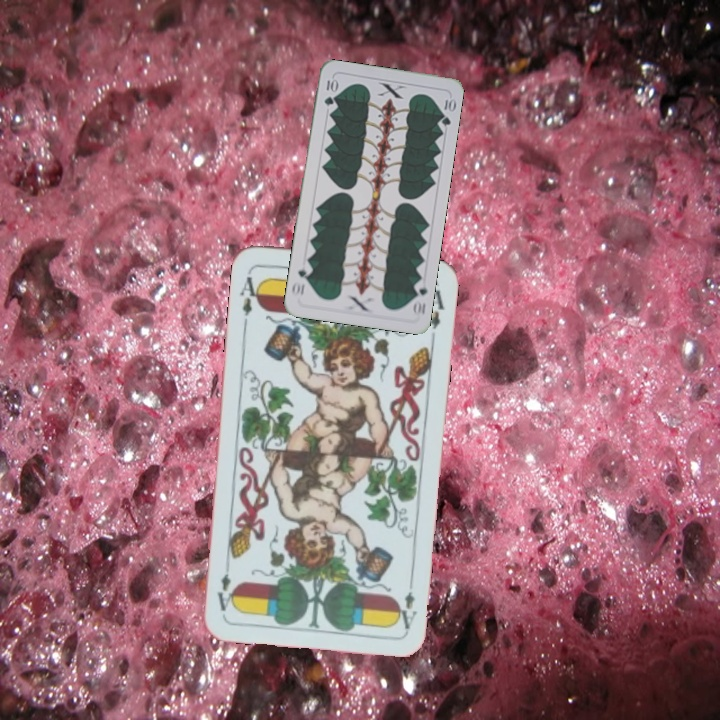EA: (391, 574, 420, 632), (236, 267, 264, 318)
G10: (409, 277, 430, 318), (320, 74, 339, 108)
